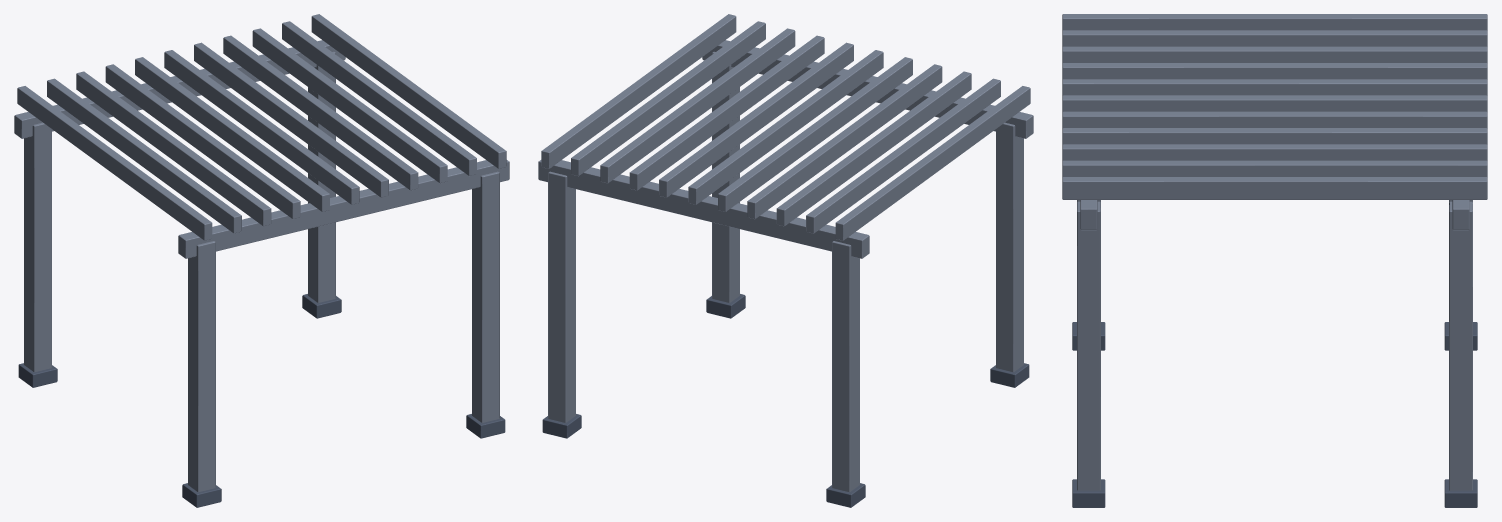
Rendered from 庭院廊架-lite.glb.
The picture shows the model from 3 angles, left to right: view 1: azimuth 30°, elevation 25°; view 2: azimuth 150°, elevation 25°; view 3: azimuth 270°, elevation 25°; orthographic projection. The views are drawn at different scales.
Parts seen in each view (by area): view 1: garden-pergola; view 2: garden-pergola; view 3: garden-pergola.
Boxes of the visible parts, x1,y1,x2,y2 form: garden-pergola: (14, 14, 509, 507); garden-pergola: (538, 14, 1033, 507); garden-pergola: (1062, 14, 1487, 507).
Size of the model in its own units: 3.2 by 2.7 by 3.2.
